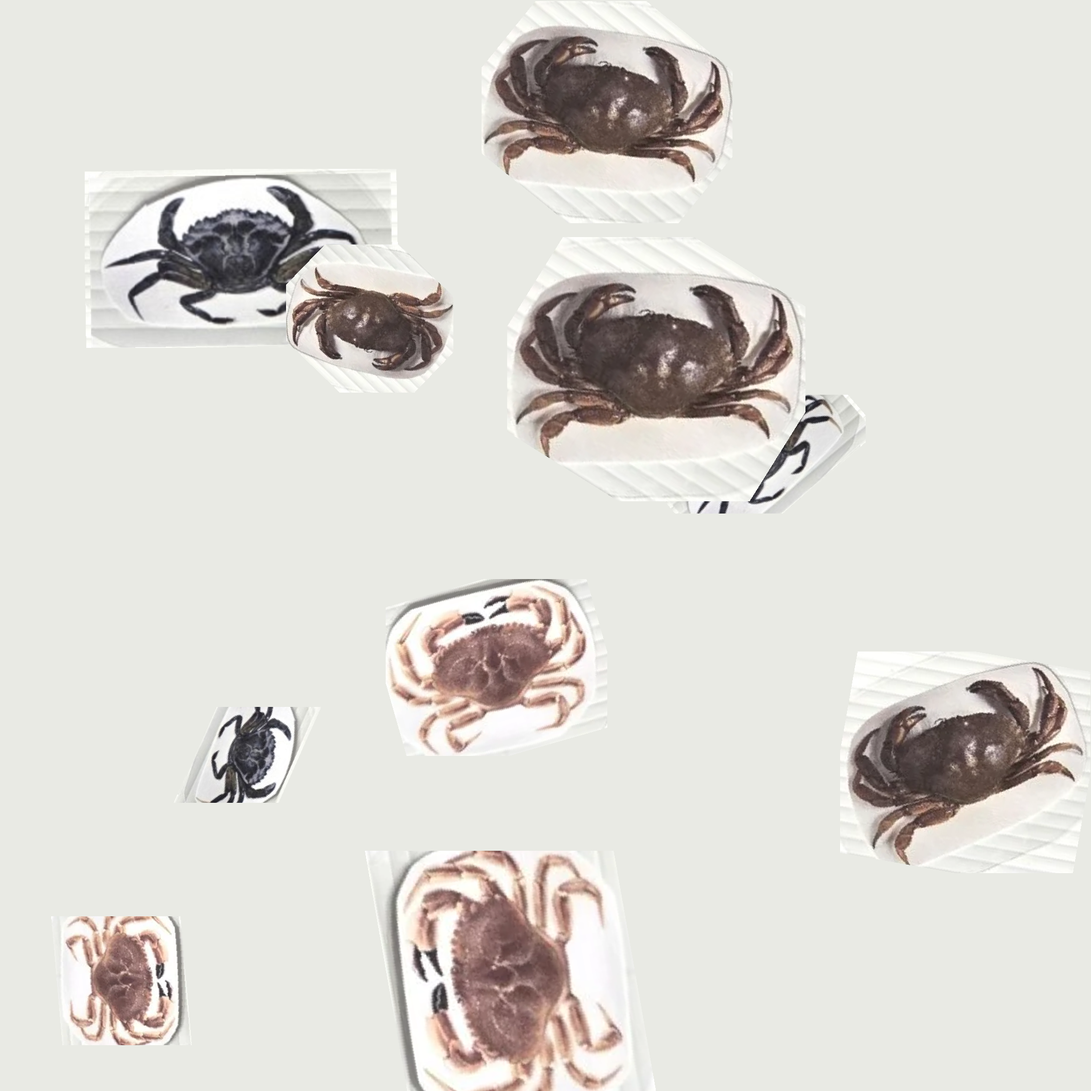evil: (76, 180, 408, 346), (180, 693, 313, 835)
normal: (413, 840, 636, 1082), (844, 655, 1077, 873), (512, 280, 773, 474), (484, 24, 716, 194), (398, 593, 607, 768), (47, 920, 180, 1044), (299, 266, 427, 384)
